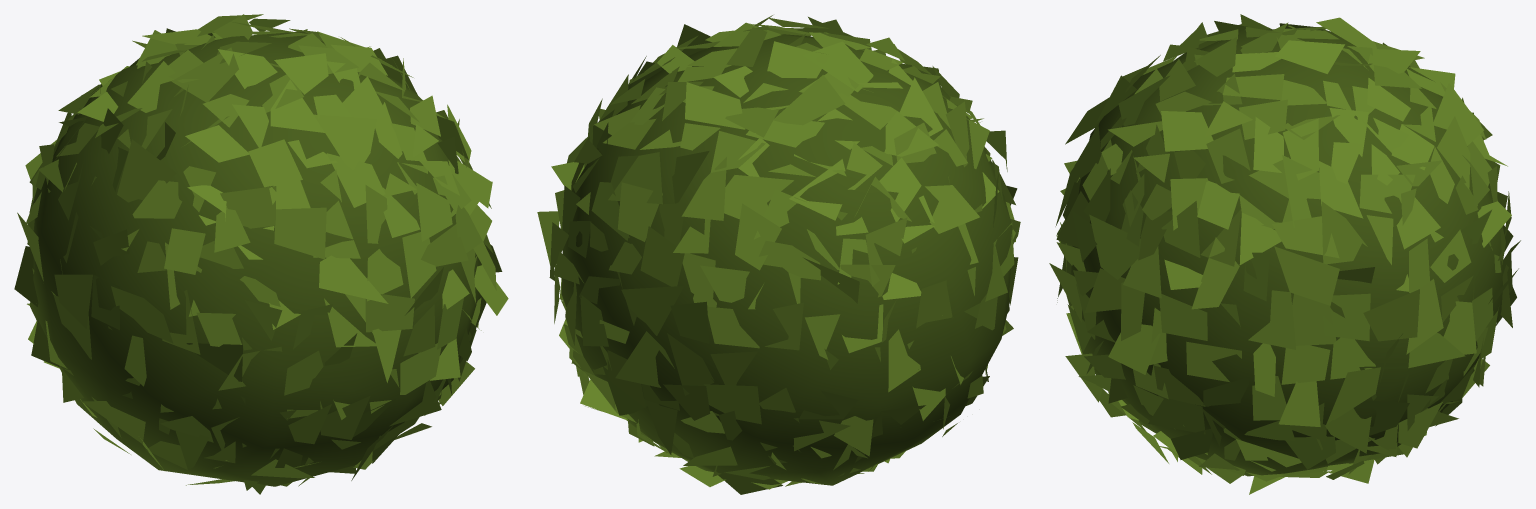
Rendered from bush_Col.fbx.
The picture shows the model from 3 angles, left to right: view 1: azimuth 30°, elevation 25°; view 2: azimuth 150°, elevation 25°; view 3: azimuth 270°, elevation 25°; orthographic projection.
Parts seen in each view (by area): view 1: Bush; view 2: Bush; view 3: Bush.
Boxes of the visible parts, box(x1,y1,x2,y2) form: Bush: box(14, 14, 508, 494); Bush: box(537, 15, 1020, 494); Bush: box(1049, 14, 1520, 494).
Size of the model in its own units: 42.28 by 43.11 by 42.86.
